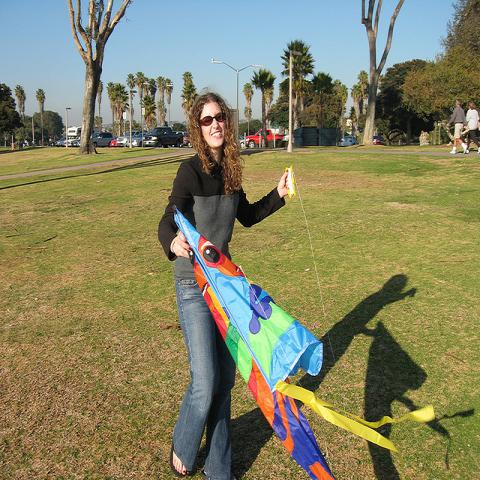car: (116, 130, 142, 146), (132, 131, 151, 147), (340, 135, 360, 146), (95, 134, 113, 146), (182, 132, 193, 148), (54, 137, 66, 147), (374, 136, 386, 145), (239, 133, 244, 148), (72, 138, 80, 146), (110, 139, 118, 146)
truck: (144, 125, 186, 152), (246, 130, 286, 148)
